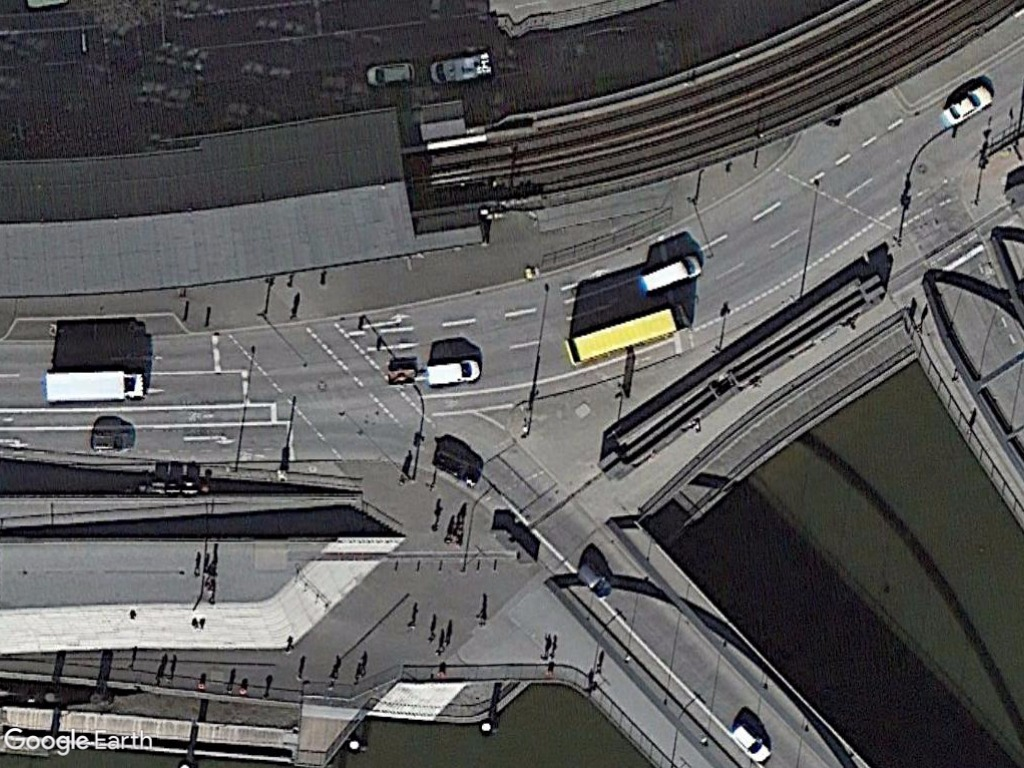bus: (561, 300, 689, 371)
car: (936, 81, 998, 131), (722, 719, 775, 767), (418, 354, 481, 391), (362, 57, 418, 90)
truck: (38, 368, 150, 404)
van: (635, 249, 704, 297), (426, 47, 495, 91)
